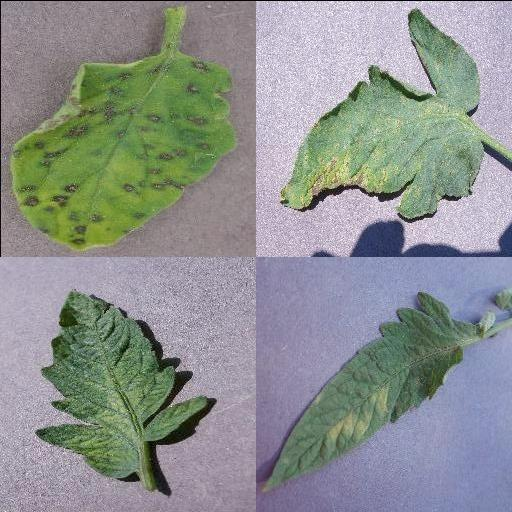Leaf Mold: (260, 290, 478, 491)
Mosaic Virus: (34, 288, 208, 480)
Septoria: (10, 51, 236, 251), (281, 9, 483, 219)
